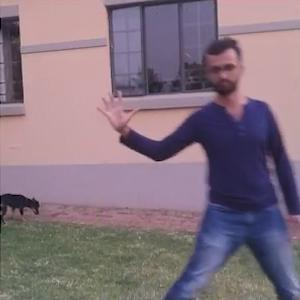follow_hand: (92, 86, 141, 131)
